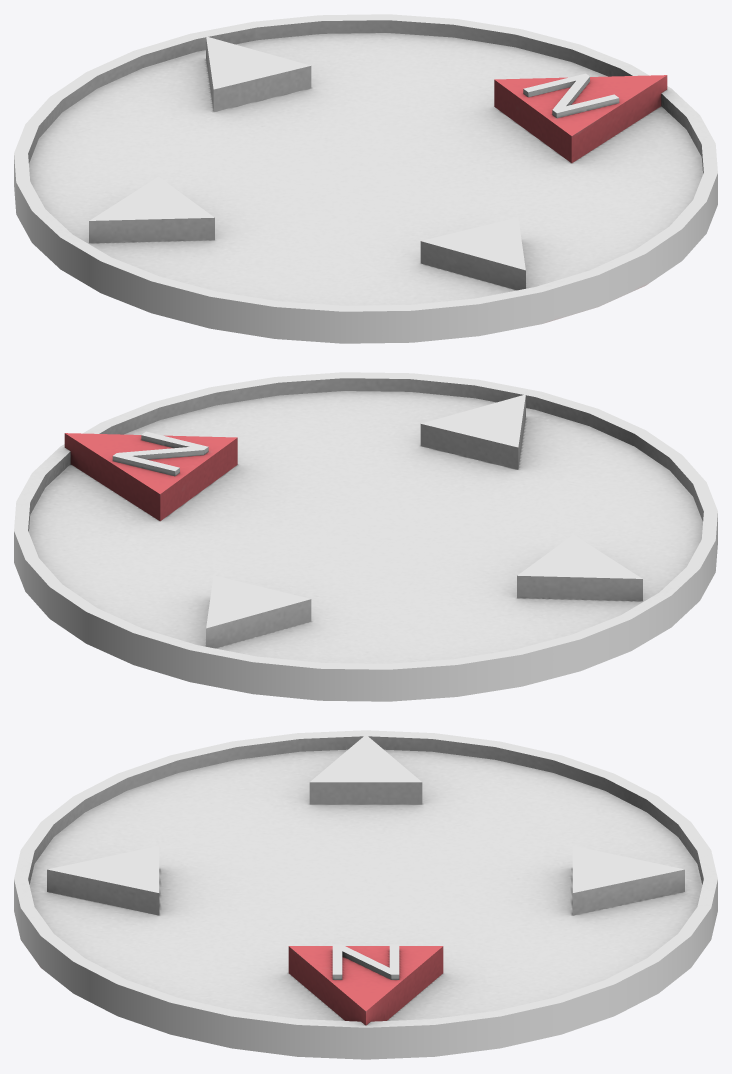
File: Compass.glb
The picture shows the model from 3 angles, top to bottom: view 1: azimuth 30°, elevation 25°; view 2: azimuth 150°, elevation 25°; view 3: azimuth 270°, elevation 25°; orthographic projection.
Visible parts, largest first — view 1: Compass; view 2: Compass; view 3: Compass.
Part boxes in pixels (x1=…): Compass: x1=14, y1=14, x2=717, y2=343; Compass: x1=14, y1=372, x2=717, y2=701; Compass: x1=14, y1=730, x2=717, y2=1059.
Size of the model in its own units: 1 by 0.0805 by 1.
Materials: 1 (1 with a texture image).
